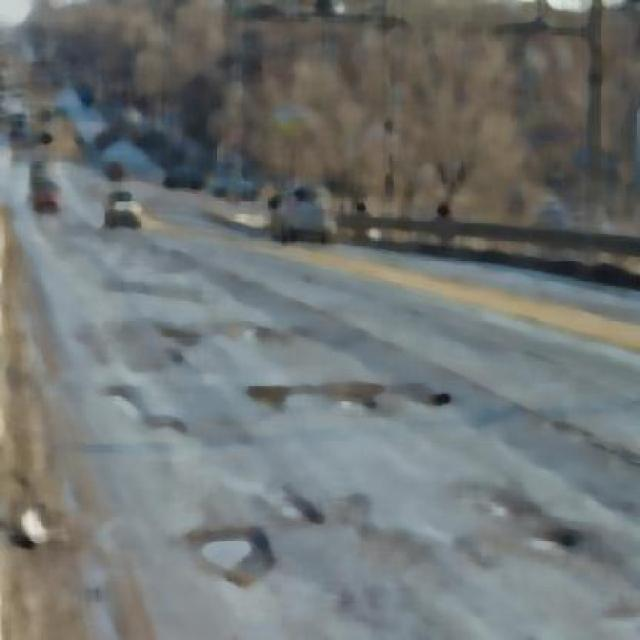Pothole: (263, 367, 472, 430), (467, 480, 568, 575), (191, 508, 295, 572)
